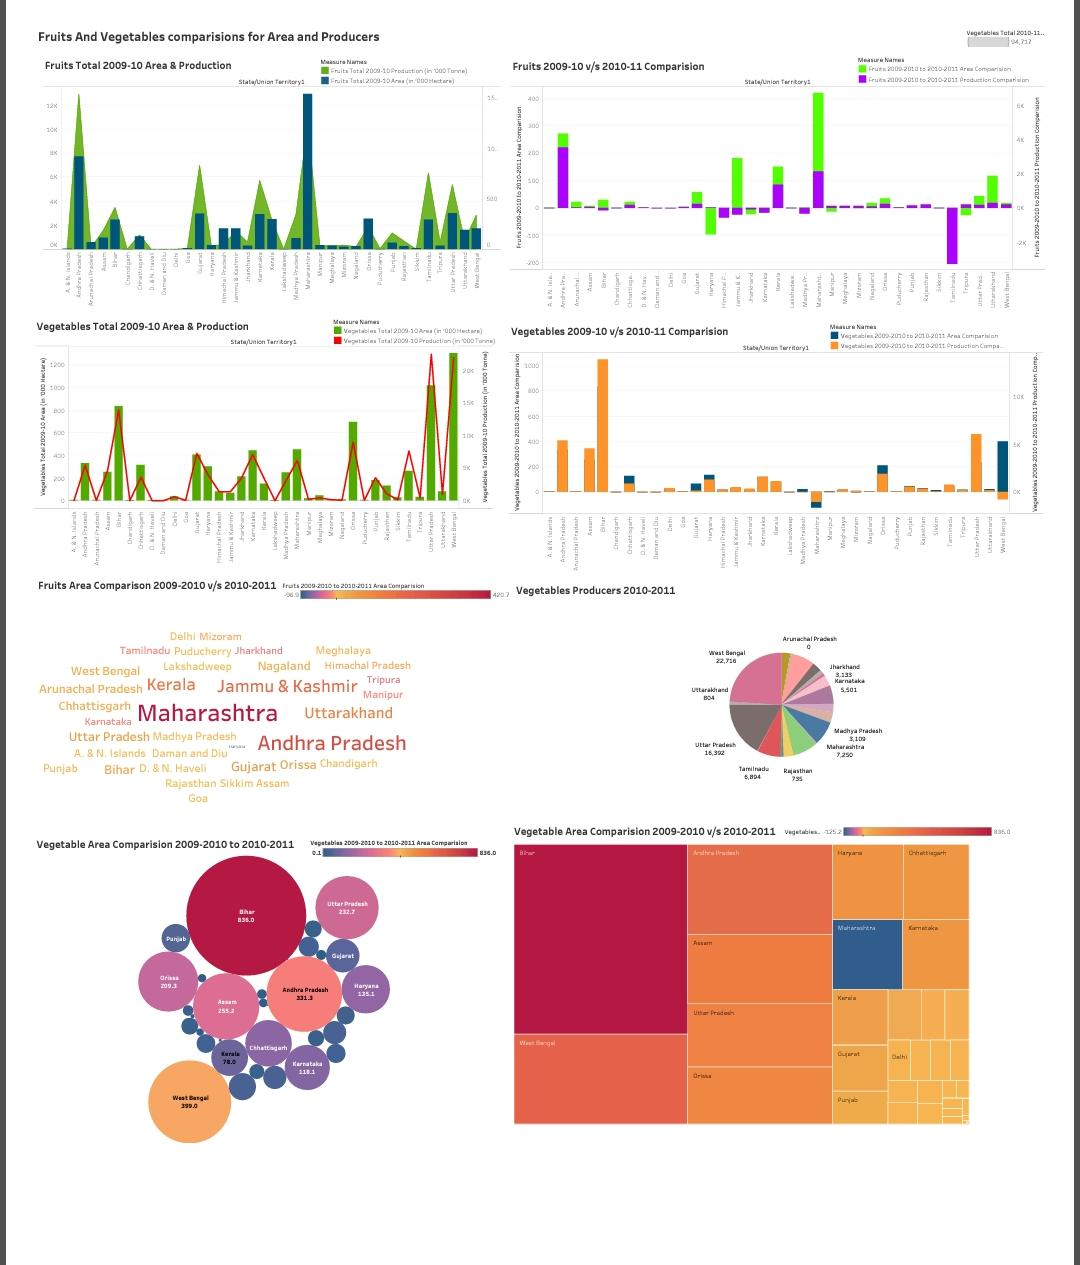

Layout of this report page (visuals, bound fields, positions):
{"tool":"tableau","page":{"name":"Fruits And Vegetables comparisions for Area and Producers","canvas":[2000,2400],"ordinal":0},"visuals":[{"type":"worksheet","box":[0,0,2000,2400]},{"type":"worksheet","param":"horz","box":[8,8,1984,2384]},{"type":"worksheet","param":"horz","box":[8,8,1824,2384]},{"type":"worksheet","param":"vert","box":[8,8,1824,2384]},{"type":"worksheet","box":[8,8,1824,41]},{"type":"worksheet","param":"vert","box":[1832,8,160,2384]},{"type":"worksheet","title":"Vegetables Producers 2010-2011","mark":"Pie","param":"[federated.16sj9ic18usdru1guh3cw0wjec9n].[sum:Vegetables Total 2010-11 Productio","box":[1832,8,160,46]},{"type":"worksheet","title":"Fruits 2009-10 v/s 2010-11 Comparision","mark":"Bar","rows":["Calculation_1595400201697755137","Calculation_1595400201691889664"],"cols":["State/Union Territory"],"param":"[federated.16sj9ic18usdru1guh3cw0wjec9n].[:Measure Names]","box":[1623,64.8,359,69.6]},{"type":"worksheet","title":"Fruits Total 2009-10 Area & Production","mark":"Bar","rows":["Fruits Total 2009-10 Production (in '000 Tonne)","Fruits Total 2009-10 Area (in '000 Hectare)"],"cols":["State/Union Territory"],"box":[24,65,900,500]},{"type":"worksheet","title":"Fruits 2009-10 v/s 2010-11 Comparision","mark":"Bar","rows":["Calculation_1595400201697755137","Calculation_1595400201691889664"],"cols":["State/Union Territory"],"box":[942,67,1050,500]},{"type":"worksheet","title":"Fruits Total 2009-10 Area & Production","mark":"Bar","rows":["Fruits Total 2009-10 Production (in '000 Tonne)","Fruits Total 2009-10 Area (in '000 Hectare)"],"cols":["State/Union Territory"],"param":"[federated.16sj9ic18usdru1guh3cw0wjec9n].[:Measure Names]","box":[568,68,317,64]},{"type":"worksheet","title":"Vegetables Total 2009-10 Area & Production","mark":"Bar","rows":["Vegetables Total 2009-10 Area (in '000 Hectare)","Vegetables Total 2009-10 Production (in '000 Tonne)"],"cols":["State/Union Territory"],"box":[8,577,900,500]},{"type":"worksheet","title":"Vegetables Total 2009-10 Area & Production","mark":"Bar","rows":["Vegetables Total 2009-10 Area (in '000 Hectare)","Vegetables Total 2009-10 Production (in '000 Tonne)"],"cols":["State/Union Territory"],"param":"[federated.16sj9ic18usdru1guh3cw0wjec9n].[:Measure Names]","box":[593,578,364,70]},{"type":"worksheet","title":"Vegetables 2009-10 v/s 2010-11 Comparision","mark":"Bar","rows":["Calculation_1595400201709338626","Calculation_1595400201709858819"],"cols":["State/Union Territory"],"box":[939,587,1050,500]},{"type":"worksheet","title":"Vegetables 2009-10 v/s 2010-11 Comparision","mark":"Bar","rows":["Calculation_1595400201709338626","Calculation_1595400201709858819"],"cols":["State/Union Territory"],"param":"[federated.16sj9ic18usdru1guh3cw0wjec9n].[:Measure Names]","box":[1568,588,344,58]},{"type":"worksheet","title":"Fruits Area Comparison 2009-2010 v/s 2010-2011","mark":"Text","box":[11,1085,900,500]},{"type":"worksheet","title":"Fruits Area Comparison 2009-2010 v/s 2010-2011","mark":"Text","param":"[federated.16sj9ic18usdru1guh3cw0wjec9n].[sum:Calculation_1595400201697755137:qk","box":[494,1094,451,56]},{"type":"worksheet","title":"Vegetables Producers 2010-2011","mark":"Pie","box":[949,1095,1050,450]},{"type":"worksheet","title":"Vegetable Area Comparision 2009-2010 v/s 2010-2011","mark":"Square","box":[945,1569,1000,600]},{"type":"worksheet","title":"Vegetable Area Comparision 2009-2010 v/s 2010-2011","mark":"Square","param":"[federated.16sj9ic18usdru1guh3cw0wjec9n].[sum:Calculation_1595400201709338626:qk","box":[1480,1578,448,32]},{"type":"worksheet","title":"Vegetable Area Comparision 2009-2010 to 2010-2011","mark":"Circle","box":[8,1595,900,606]},{"type":"worksheet","title":"Vegetable Area Comparision 2009-2010 to 2010-2011","mark":"Circle","param":"[federated.16sj9ic18usdru1guh3cw0wjec9n].[sum:Calculation_1595400201709338626:qk","box":[549,1600,370,62]}]}

Visuals, with their boxes in screenshot pixels (x1, y1, x2, y2), scaled from the page's 2000x2400 canvas onto the 1080x1265 screenshot:
worksheet: left=0, top=0, right=1079, bottom=1264
worksheet: left=4, top=4, right=1076, bottom=1261
worksheet: left=4, top=4, right=989, bottom=1261
worksheet: left=4, top=4, right=989, bottom=1261
worksheet: left=4, top=4, right=989, bottom=26
worksheet: left=989, top=4, right=1076, bottom=1261
"Vegetables Producers 2010-2011" worksheet (Pie marks): left=989, top=4, right=1076, bottom=28
"Fruits 2009-10 v/s 2010-11 Comparision" worksheet (Bar marks): left=876, top=34, right=1070, bottom=71
"Fruits Total 2009-10 Area & Production" worksheet (Bar marks): left=13, top=34, right=499, bottom=298
"Fruits 2009-10 v/s 2010-11 Comparision" worksheet (Bar marks): left=509, top=35, right=1076, bottom=299
"Fruits Total 2009-10 Area & Production" worksheet (Bar marks): left=307, top=36, right=478, bottom=70
"Vegetables Total 2009-10 Area & Production" worksheet (Bar marks): left=4, top=304, right=490, bottom=568
"Vegetables Total 2009-10 Area & Production" worksheet (Bar marks): left=320, top=305, right=517, bottom=342
"Vegetables 2009-10 v/s 2010-11 Comparision" worksheet (Bar marks): left=507, top=309, right=1074, bottom=573
"Vegetables 2009-10 v/s 2010-11 Comparision" worksheet (Bar marks): left=847, top=310, right=1032, bottom=340
"Fruits Area Comparison 2009-2010 v/s 2010-2011" worksheet (Text marks): left=6, top=572, right=492, bottom=835
"Fruits Area Comparison 2009-2010 v/s 2010-2011" worksheet (Text marks): left=267, top=577, right=510, bottom=606
"Vegetables Producers 2010-2011" worksheet (Pie marks): left=512, top=577, right=1079, bottom=814
"Vegetable Area Comparision 2009-2010 v/s 2010-2011" worksheet (Square marks): left=510, top=827, right=1050, bottom=1143
"Vegetable Area Comparision 2009-2010 v/s 2010-2011" worksheet (Square marks): left=799, top=832, right=1041, bottom=849
"Vegetable Area Comparision 2009-2010 to 2010-2011" worksheet (Circle marks): left=4, top=841, right=490, bottom=1160
"Vegetable Area Comparision 2009-2010 to 2010-2011" worksheet (Circle marks): left=296, top=843, right=496, bottom=876
